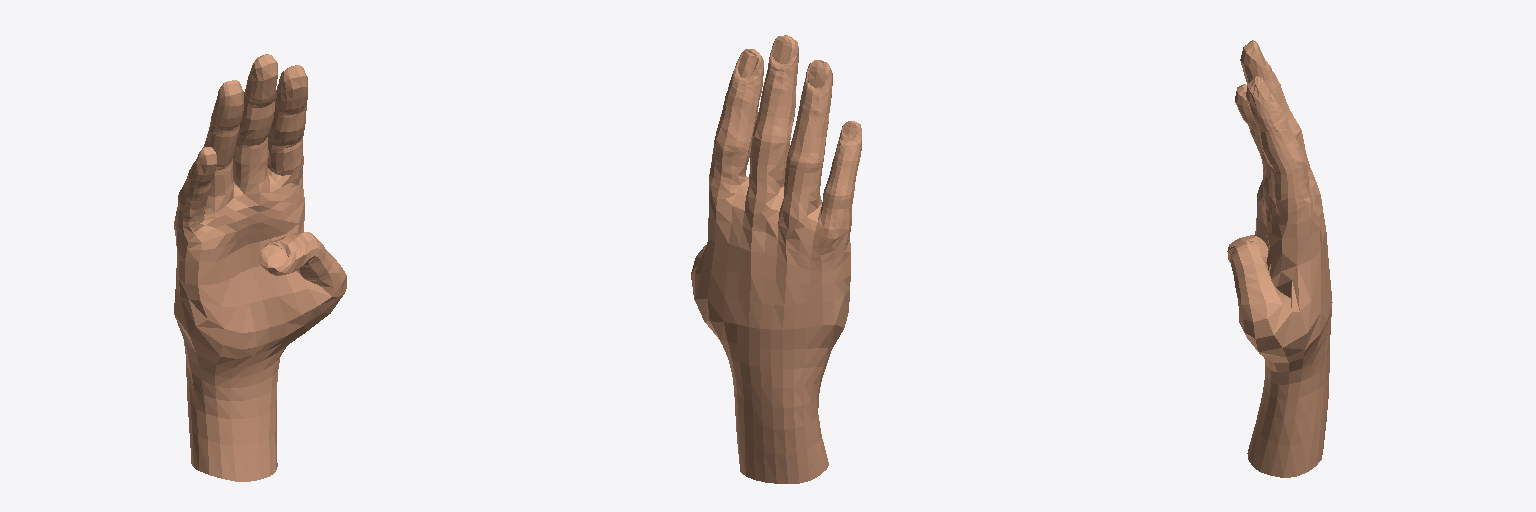
File: hand_base.obj
3 renders of one model, left to right at view 1: azimuth 30°, elevation 25°; view 2: azimuth 150°, elevation 25°; view 3: azimuth 270°, elevation 25°, orthographic.
Parts seen in each view (by area): view 1: hand_mesh_temp_human_base.001; view 2: hand_mesh_temp_human_base.001; view 3: hand_mesh_temp_human_base.001.
Part boxes in pixels (bbox=[...]): hand_mesh_temp_human_base.001: bbox=[174, 54, 346, 481]; hand_mesh_temp_human_base.001: bbox=[691, 35, 861, 483]; hand_mesh_temp_human_base.001: bbox=[1227, 40, 1332, 477].
Bounding box in the file's own units: 0.1039 × 0.2625 × 0.059.